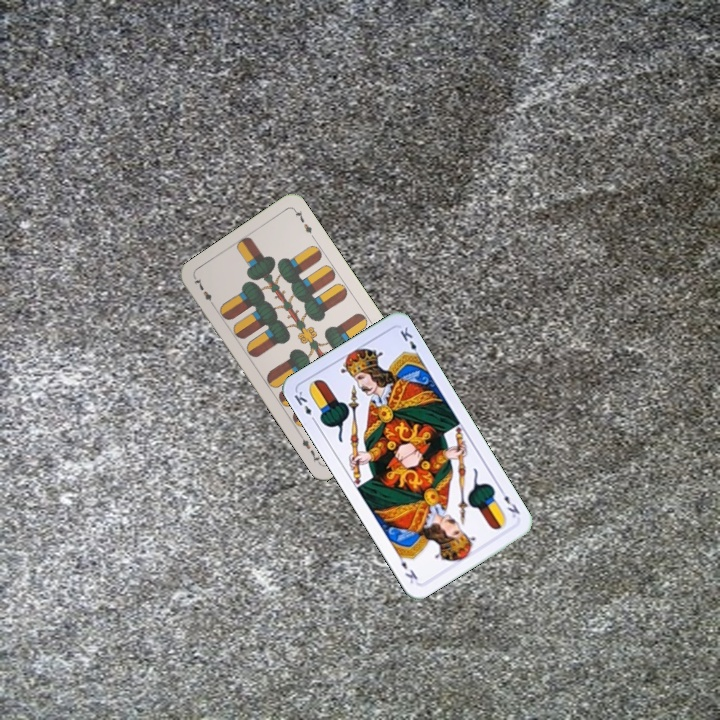E7: (190, 274, 218, 310)
EK: (290, 387, 319, 425), (496, 484, 523, 521)
